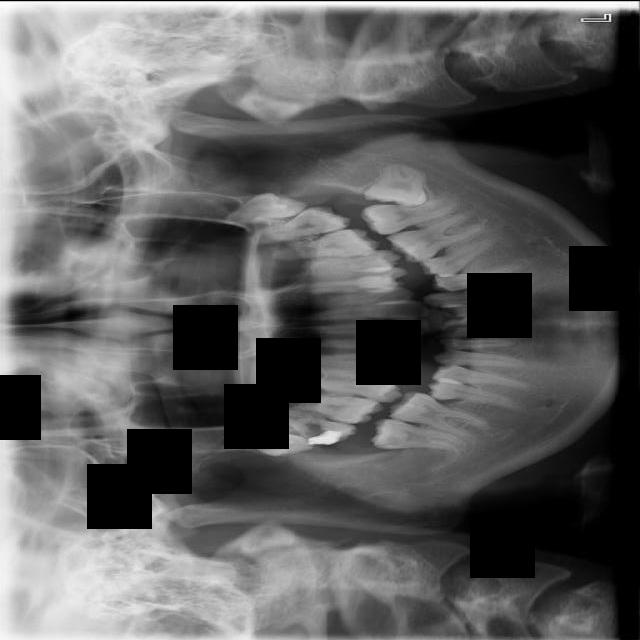3M ESPE Implant: (233, 422, 315, 462)
52: (298, 417, 360, 446), (301, 417, 327, 439)
73: (578, 28, 596, 36)
BioHorizons Implant: (243, 200, 353, 247)
BioLife Implant: (214, 185, 308, 230)
Biomet 3i Implant: (363, 159, 430, 208)
Blue Sky Bio Implant: (359, 193, 462, 237)
Caries: (252, 400, 359, 455)
Implant: (369, 417, 469, 452)
